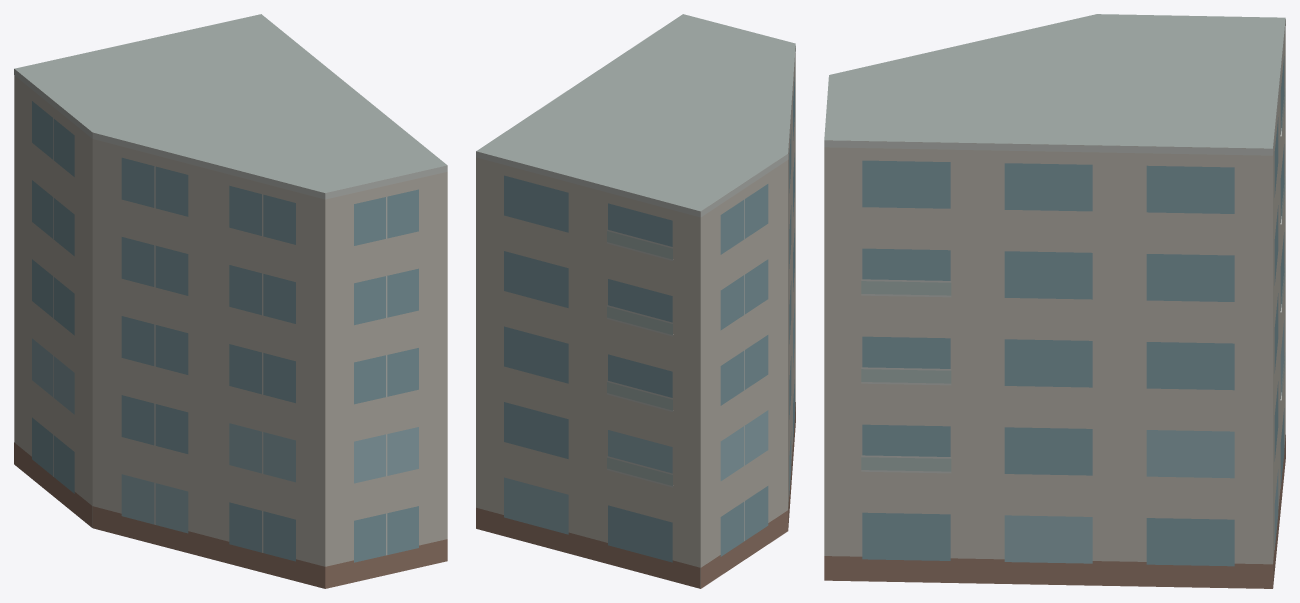
Rendered from survey-upis-32672977.glb.
The picture shows the model from 3 angles, left to right: view 1: azimuth 30°, elevation 25°; view 2: azimuth 150°, elevation 25°; view 3: azimuth 270°, elevation 25°; orthographic projection. The views are drawn at different scales.
Parts seen in each view (by area): view 1: survey-upis-32672977.tmp; view 2: survey-upis-32672977.tmp; view 3: survey-upis-32672977.tmp.
Part boxes in pixels (<box>): survey-upis-32672977.tmp: <box>14,14,447,588</box>; survey-upis-32672977.tmp: <box>476,14,795,588</box>; survey-upis-32672977.tmp: <box>824,14,1285,588</box>.
Size of the model in its own units: 9.94 by 15.14 by 14.4.
